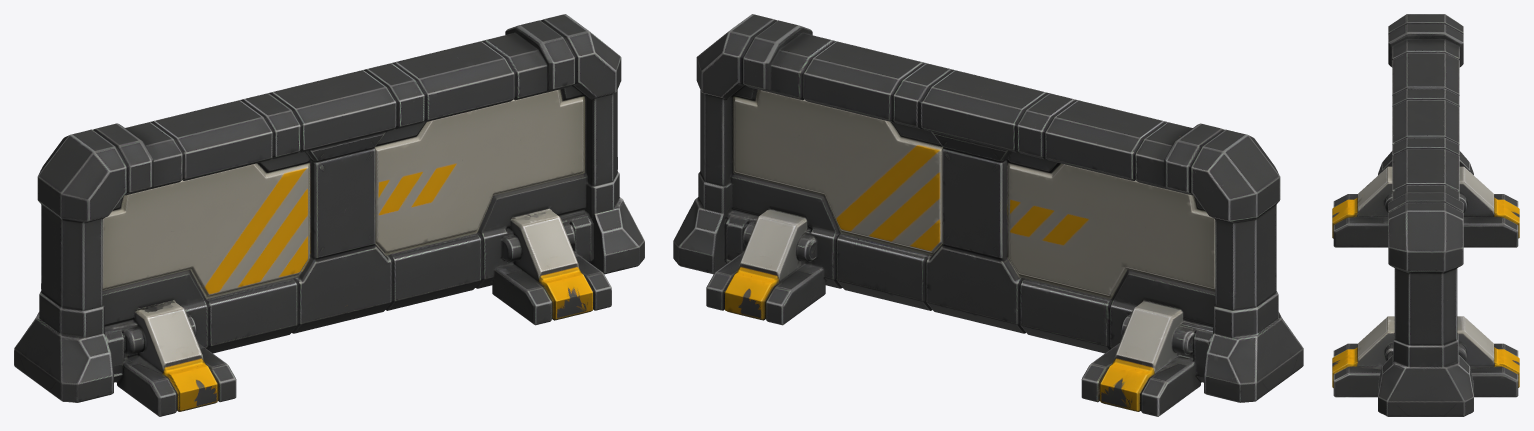
The model's file is 01_mag_barricade_low.fbx.
3 renders of one model, left to right at view 1: azimuth 30°, elevation 25°; view 2: azimuth 150°, elevation 25°; view 3: azimuth 270°, elevation 25°, orthographic. The views are drawn at different scales.
Visible parts, largest first — view 1: 01_mag_barricade_low; view 2: 01_mag_barricade_low; view 3: 01_mag_barricade_low.
Part boxes in pixels (x1,y1,x2,y2): 01_mag_barricade_low: (14,14,644,416); 01_mag_barricade_low: (673,14,1303,416); 01_mag_barricade_low: (1332,14,1519,416).
Size of the model in its own units: 2.4 by 0.9391 by 0.8172.
1 material, 1 textured.
